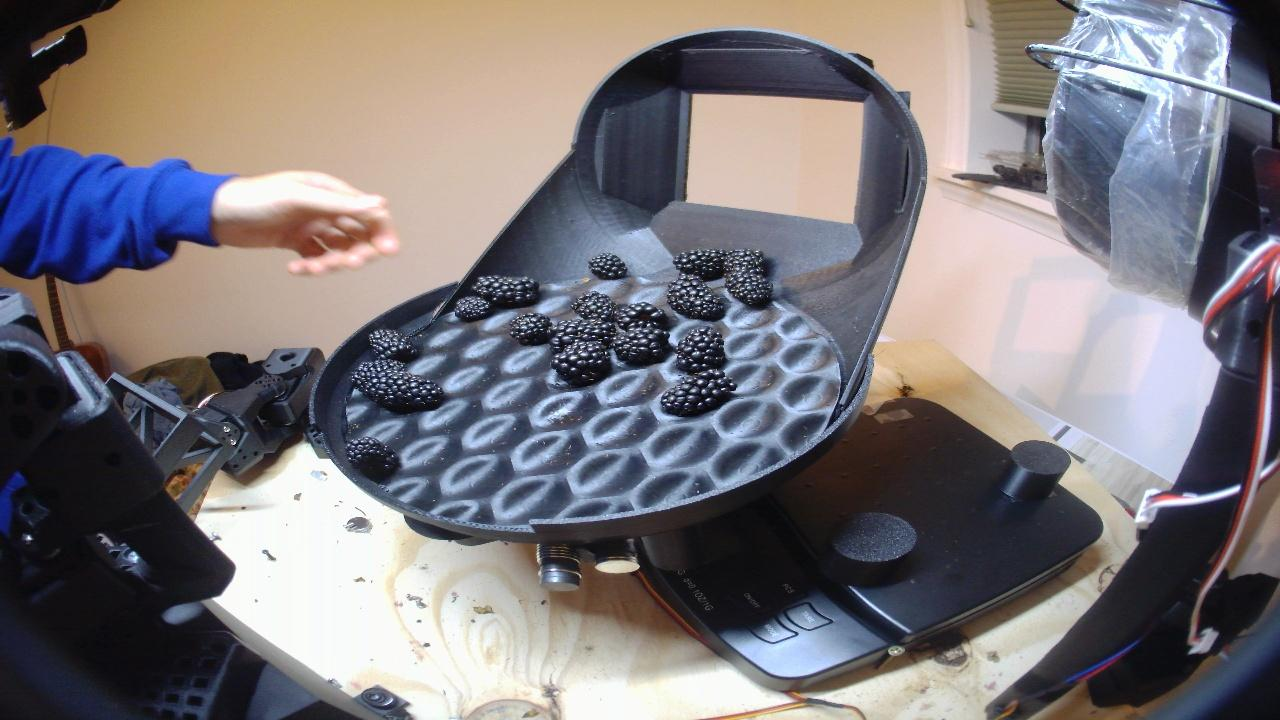berry: (660, 369, 736, 416), (361, 371, 445, 412), (667, 274, 725, 319), (552, 341, 611, 385), (676, 325, 726, 371), (613, 326, 670, 364), (549, 319, 615, 351), (473, 275, 539, 306), (349, 437, 397, 479), (367, 328, 418, 361), (613, 302, 668, 330), (673, 249, 724, 279), (353, 359, 404, 389), (726, 272, 772, 305), (510, 313, 552, 344), (572, 291, 616, 320), (724, 249, 764, 274), (588, 253, 626, 279), (455, 295, 493, 321)
